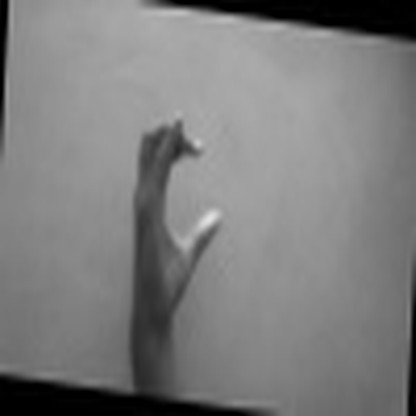c: (119, 104, 226, 307)
